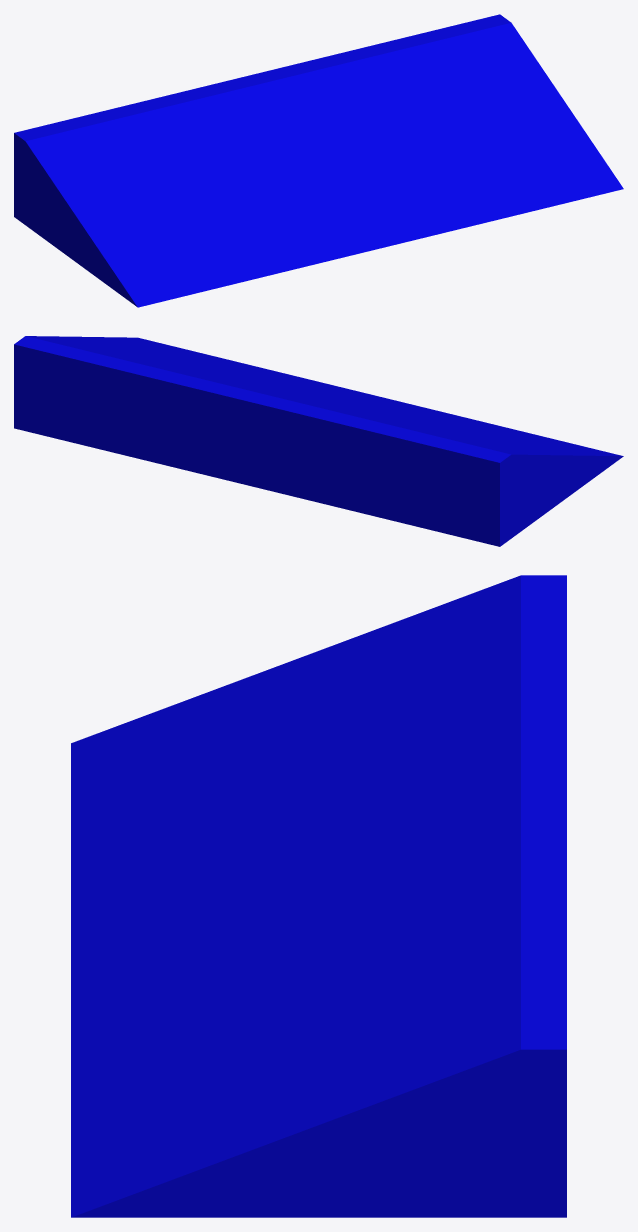
Rendered from SM_Bstairscol_01.fbx.
The picture shows the model from 3 angles, top to bottom: view 1: azimuth 30°, elevation 25°; view 2: azimuth 150°, elevation 25°; view 3: azimuth 270°, elevation 25°; orthographic projection. The views are drawn at different scales.
Parts seen in each view (by area): view 1: SM_Bstairscol_01; view 2: SM_Bstairscol_01; view 3: SM_Bstairscol_01.
Part boxes in pixels (bbox=[...]): SM_Bstairscol_01: bbox=[14, 14, 623, 307]; SM_Bstairscol_01: bbox=[14, 336, 623, 546]; SM_Bstairscol_01: bbox=[71, 575, 566, 1217].
Bounding box in the file's own units: 421 × 69.55 × 186.
